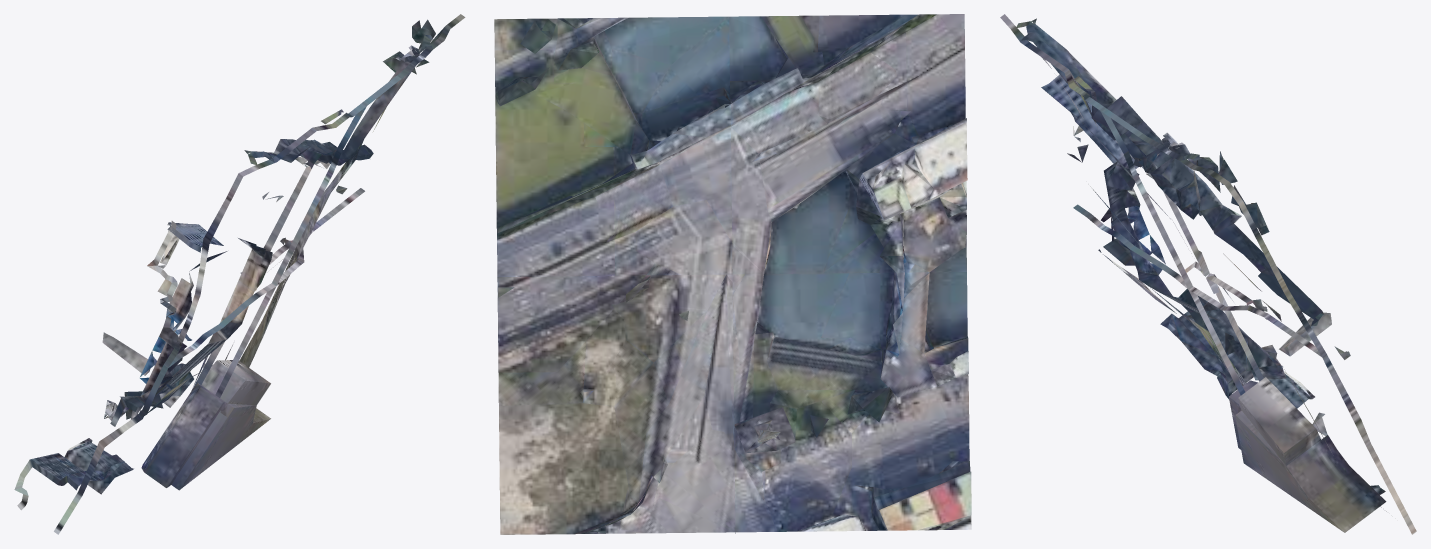
3 views of the same model, side by side, from view 1: azimuth 30°, elevation 25°; view 2: azimuth 150°, elevation 25°; view 3: azimuth 270°, elevation 25° (orthographic). The views are drawn at different scales.
Bounding box in the file's own units: 162 × 146 × 129.
2 materials, 2 textured.
